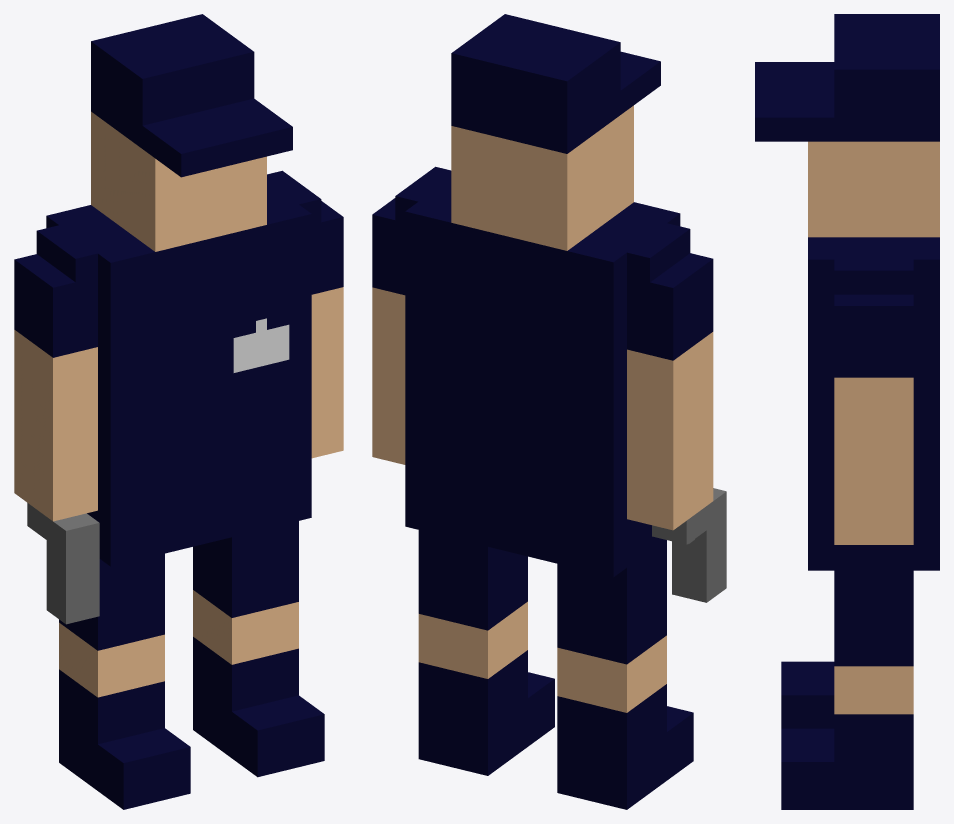
Rendered from guard.obj.
3 views of the same model, side by side, from view 1: azimuth 30°, elevation 25°; view 2: azimuth 150°, elevation 25°; view 3: azimuth 270°, elevation 25° (orthographic). The views are drawn at different scales.
Bounding box in the file's own units: 2.6 × 6 × 1.4.
Materials: 1 (1 with a texture image).
